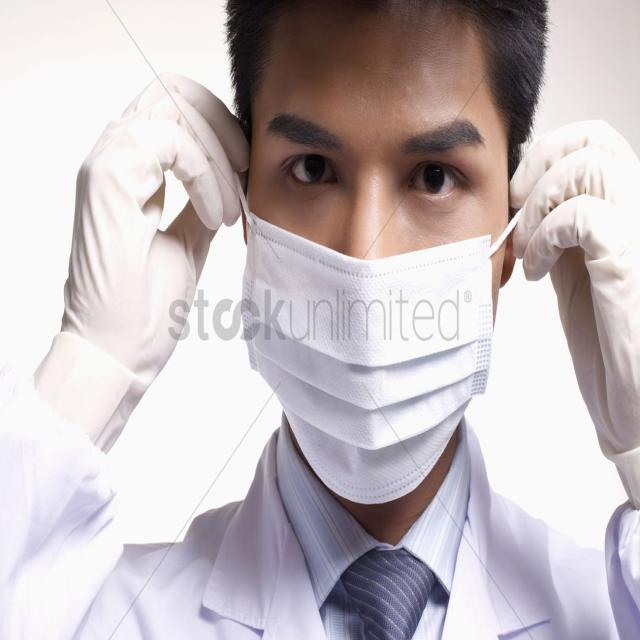Gloves: (45, 78, 248, 375), (514, 111, 640, 452)
Mask: (237, 142, 519, 486)
